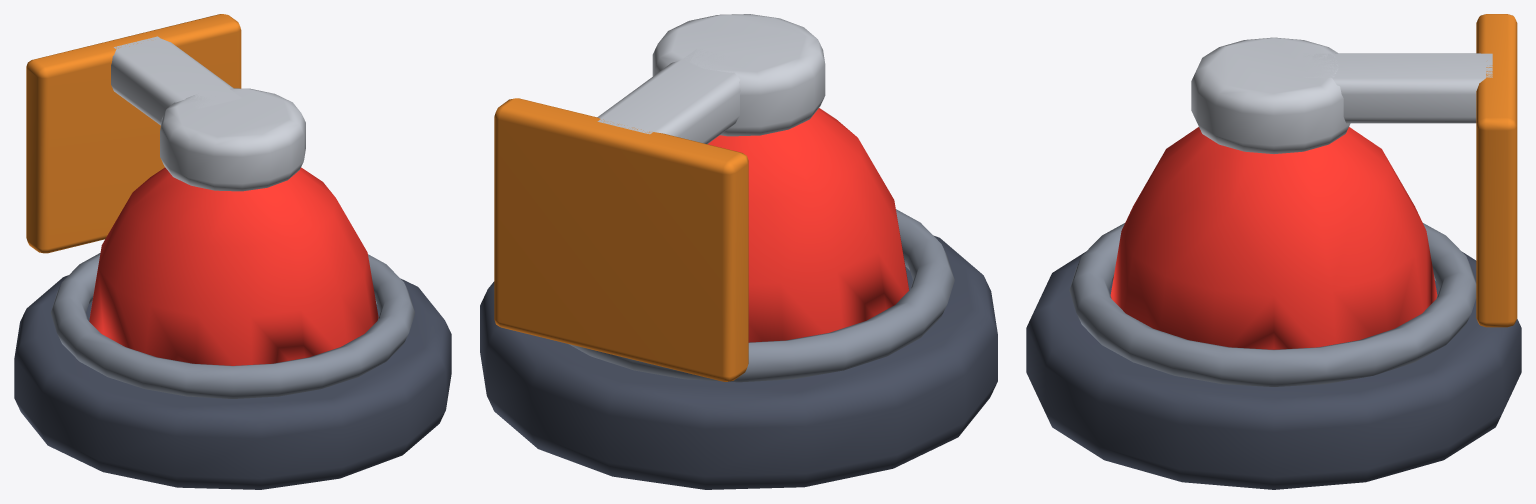
File: Fx_Alarm.fbx
3 views of the same model, side by side, from view 1: azimuth 30°, elevation 25°; view 2: azimuth 150°, elevation 25°; view 3: azimuth 270°, elevation 25° (orthographic). The views are drawn at different scales.
Visible parts, largest first — view 1: Fx_Alarm.Lamp_Red, Fx_Alarm.Base, Fx_Alarm.Move_Shade, Fx_Alarm.Cage; view 2: Fx_Alarm.Move_Shade, Fx_Alarm.Base, Fx_Alarm.Lamp_Red, Fx_Alarm.Cage; view 3: Fx_Alarm.Lamp_Red, Fx_Alarm.Base, Fx_Alarm.Move_Shade, Fx_Alarm.Cage.
Boxes of the visible parts, left/top/right/bottom form: Fx_Alarm.Lamp_Red: left=89, top=167, right=378, bottom=365; Fx_Alarm.Base: left=14, top=275, right=451, bottom=489; Fx_Alarm.Move_Shade: left=26, top=14, right=305, bottom=253; Fx_Alarm.Cage: left=51, top=253, right=414, bottom=398; Fx_Alarm.Move_Shade: left=494, top=14, right=825, bottom=381; Fx_Alarm.Base: left=480, top=235, right=997, bottom=489; Fx_Alarm.Lamp_Red: left=707, top=108, right=909, bottom=342; Fx_Alarm.Cage: left=568, top=209, right=954, bottom=382; Fx_Alarm.Lamp_Red: left=1110, top=127, right=1437, bottom=349; Fx_Alarm.Base: left=1026, top=252, right=1521, bottom=489; Fx_Alarm.Move_Shade: left=1191, top=14, right=1517, bottom=327; Fx_Alarm.Cage: left=1069, top=223, right=1476, bottom=386.
Bounding box in the file's own units: 0.3 × 0.22 × 0.3.
Materials: 1 (1 with a texture image).
